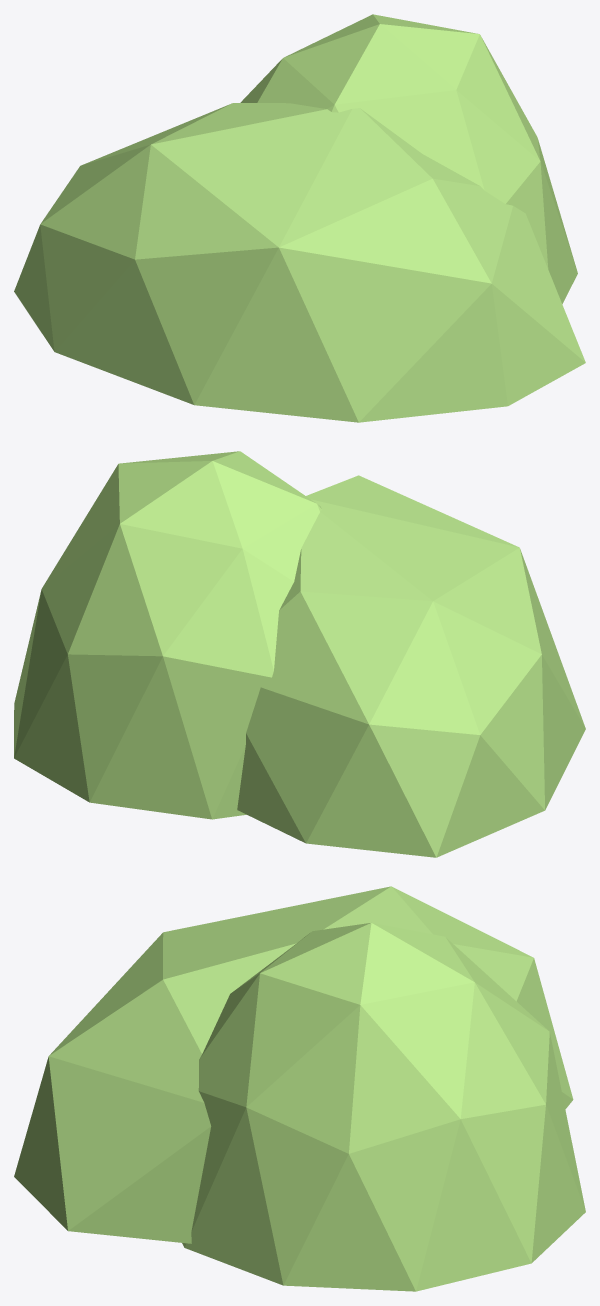
File: Bush_e_m_01.fbx
3 renders of one model, top to bottom at view 1: azimuth 30°, elevation 25°; view 2: azimuth 150°, elevation 25°; view 3: azimuth 270°, elevation 25°, orthographic. The views are drawn at different scales.
Visible parts, largest first — view 1: Bush_e_m_01; view 2: Bush_e_m_01; view 3: Bush_e_m_01.
Part boxes in pixels (x1=…): Bush_e_m_01: x1=14, y1=14, x2=585, y2=422; Bush_e_m_01: x1=14, y1=451, x2=585, y2=857; Bush_e_m_01: x1=14, y1=886, x2=585, y2=1291.
Bounding box in the file's own units: 175 × 88.12 × 163.
